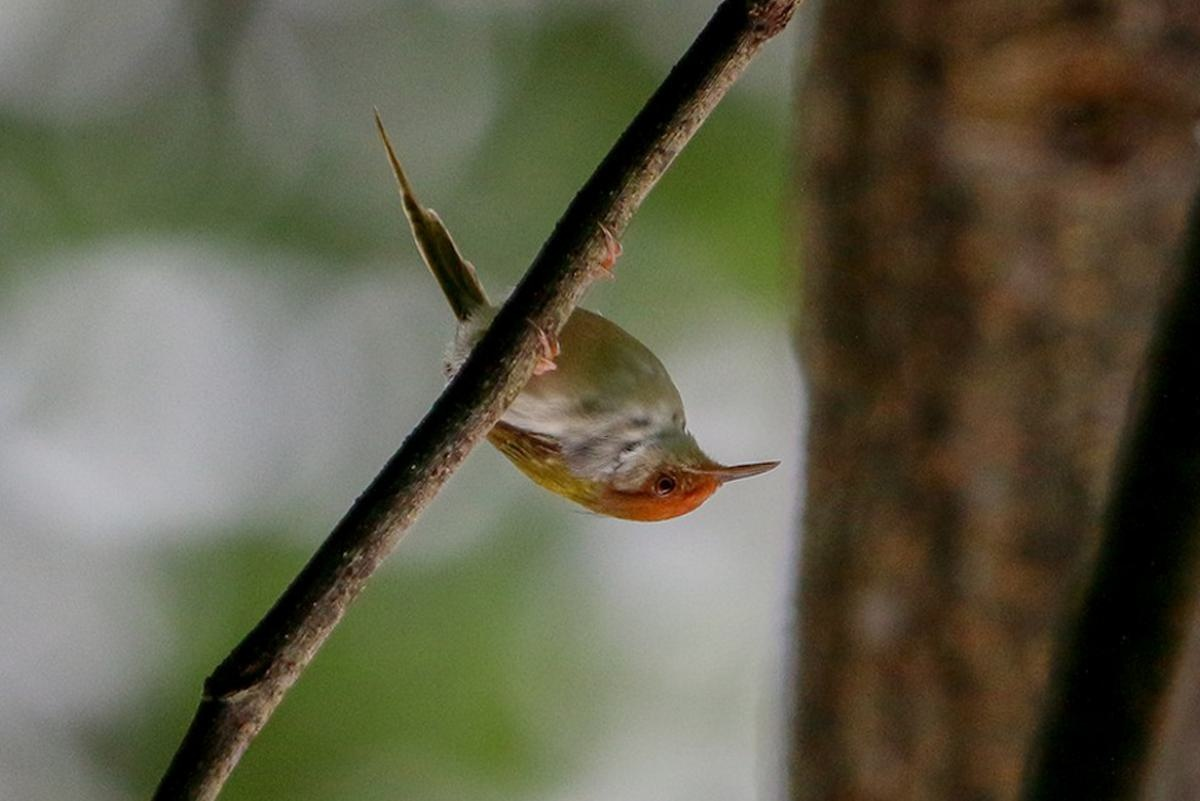tailorbird: (355, 116, 777, 545)
